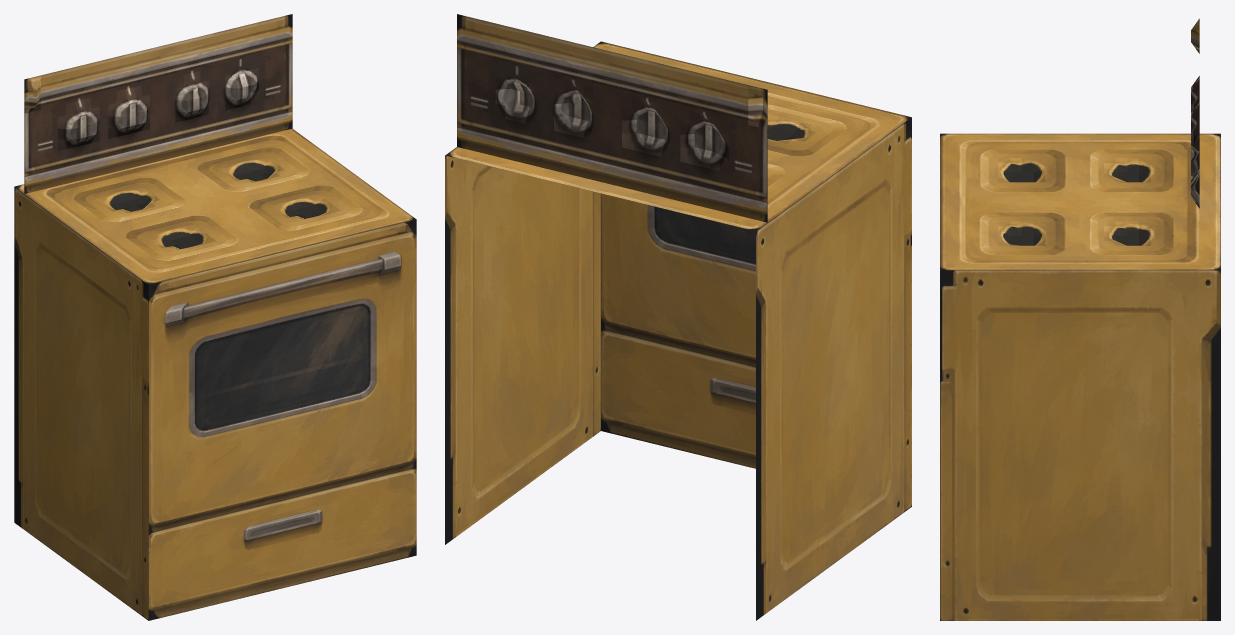
File: stress_b_v4_harvest_gold.glb
3 renders of one model, left to right at view 1: azimuth 30°, elevation 25°; view 2: azimuth 150°, elevation 25°; view 3: azimuth 270°, elevation 25°, orthographic. The views are drawn at different scales.
Parts seen in each view (by area): view 1: stress_b_v4_harvest_gold_front_door, stress_b_v4_harvest_gold_left, stress_b_v4_harvest_gold_cooktop, stress_b_v4_harvest_gold_backguard, stress_b_v4_harvest_gold_front_drawer; view 2: stress_b_v4_harvest_gold_left, stress_b_v4_harvest_gold_right, stress_b_v4_harvest_gold_backguard, stress_b_v4_harvest_gold_front_door, stress_b_v4_harvest_gold_front_drawer, stress_b_v4_harvest_gold_cooktop; view 3: stress_b_v4_harvest_gold_right, stress_b_v4_harvest_gold_cooktop, stress_b_v4_harvest_gold_backguard.
Part boxes in pixels (<box>): stress_b_v4_harvest_gold_front_door: <box>148,219,416,532</box>; stress_b_v4_harvest_gold_left: <box>14,187,148,620</box>; stress_b_v4_harvest_gold_cooktop: <box>14,128,416,284</box>; stress_b_v4_harvest_gold_backguard: <box>24,14,292,193</box>; stress_b_v4_harvest_gold_front_drawer: <box>148,467,416,620</box>; stress_b_v4_harvest_gold_left: <box>756,117,911,620</box>; stress_b_v4_harvest_gold_right: <box>445,155,600,544</box>; stress_b_v4_harvest_gold_backguard: <box>457,14,767,222</box>; stress_b_v4_harvest_gold_front_door: <box>601,193,755,366</box>; stress_b_v4_harvest_gold_front_drawer: <box>601,329,755,468</box>; stress_b_v4_harvest_gold_cooktop: <box>445,41,911,231</box>; stress_b_v4_harvest_gold_right: <box>940,270,1220,620</box>; stress_b_v4_harvest_gold_cooktop: <box>940,133,1220,270</box>; stress_b_v4_harvest_gold_backguard: <box>1191,18,1199,208</box>.
Bounding box in the file's own units: 0.76 × 1.22 × 0.66.
1 material, 1 textured.
